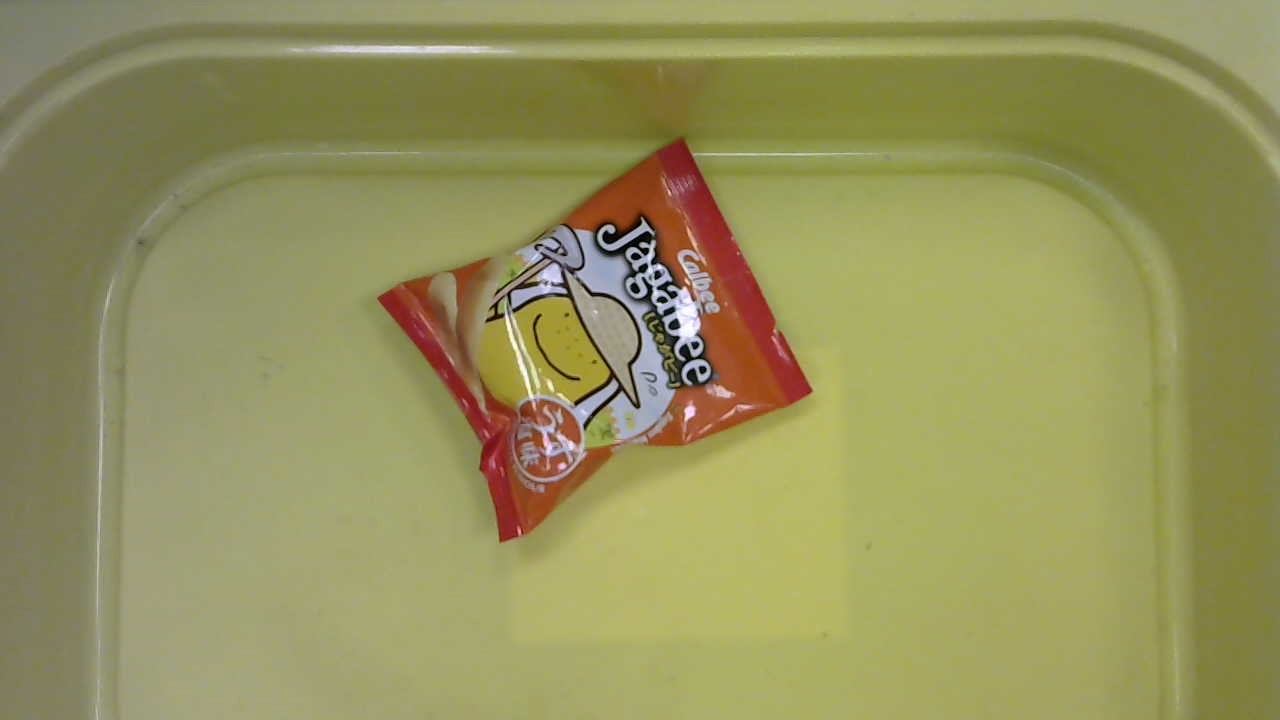JagabeeFarmer: (365, 131, 851, 555)
